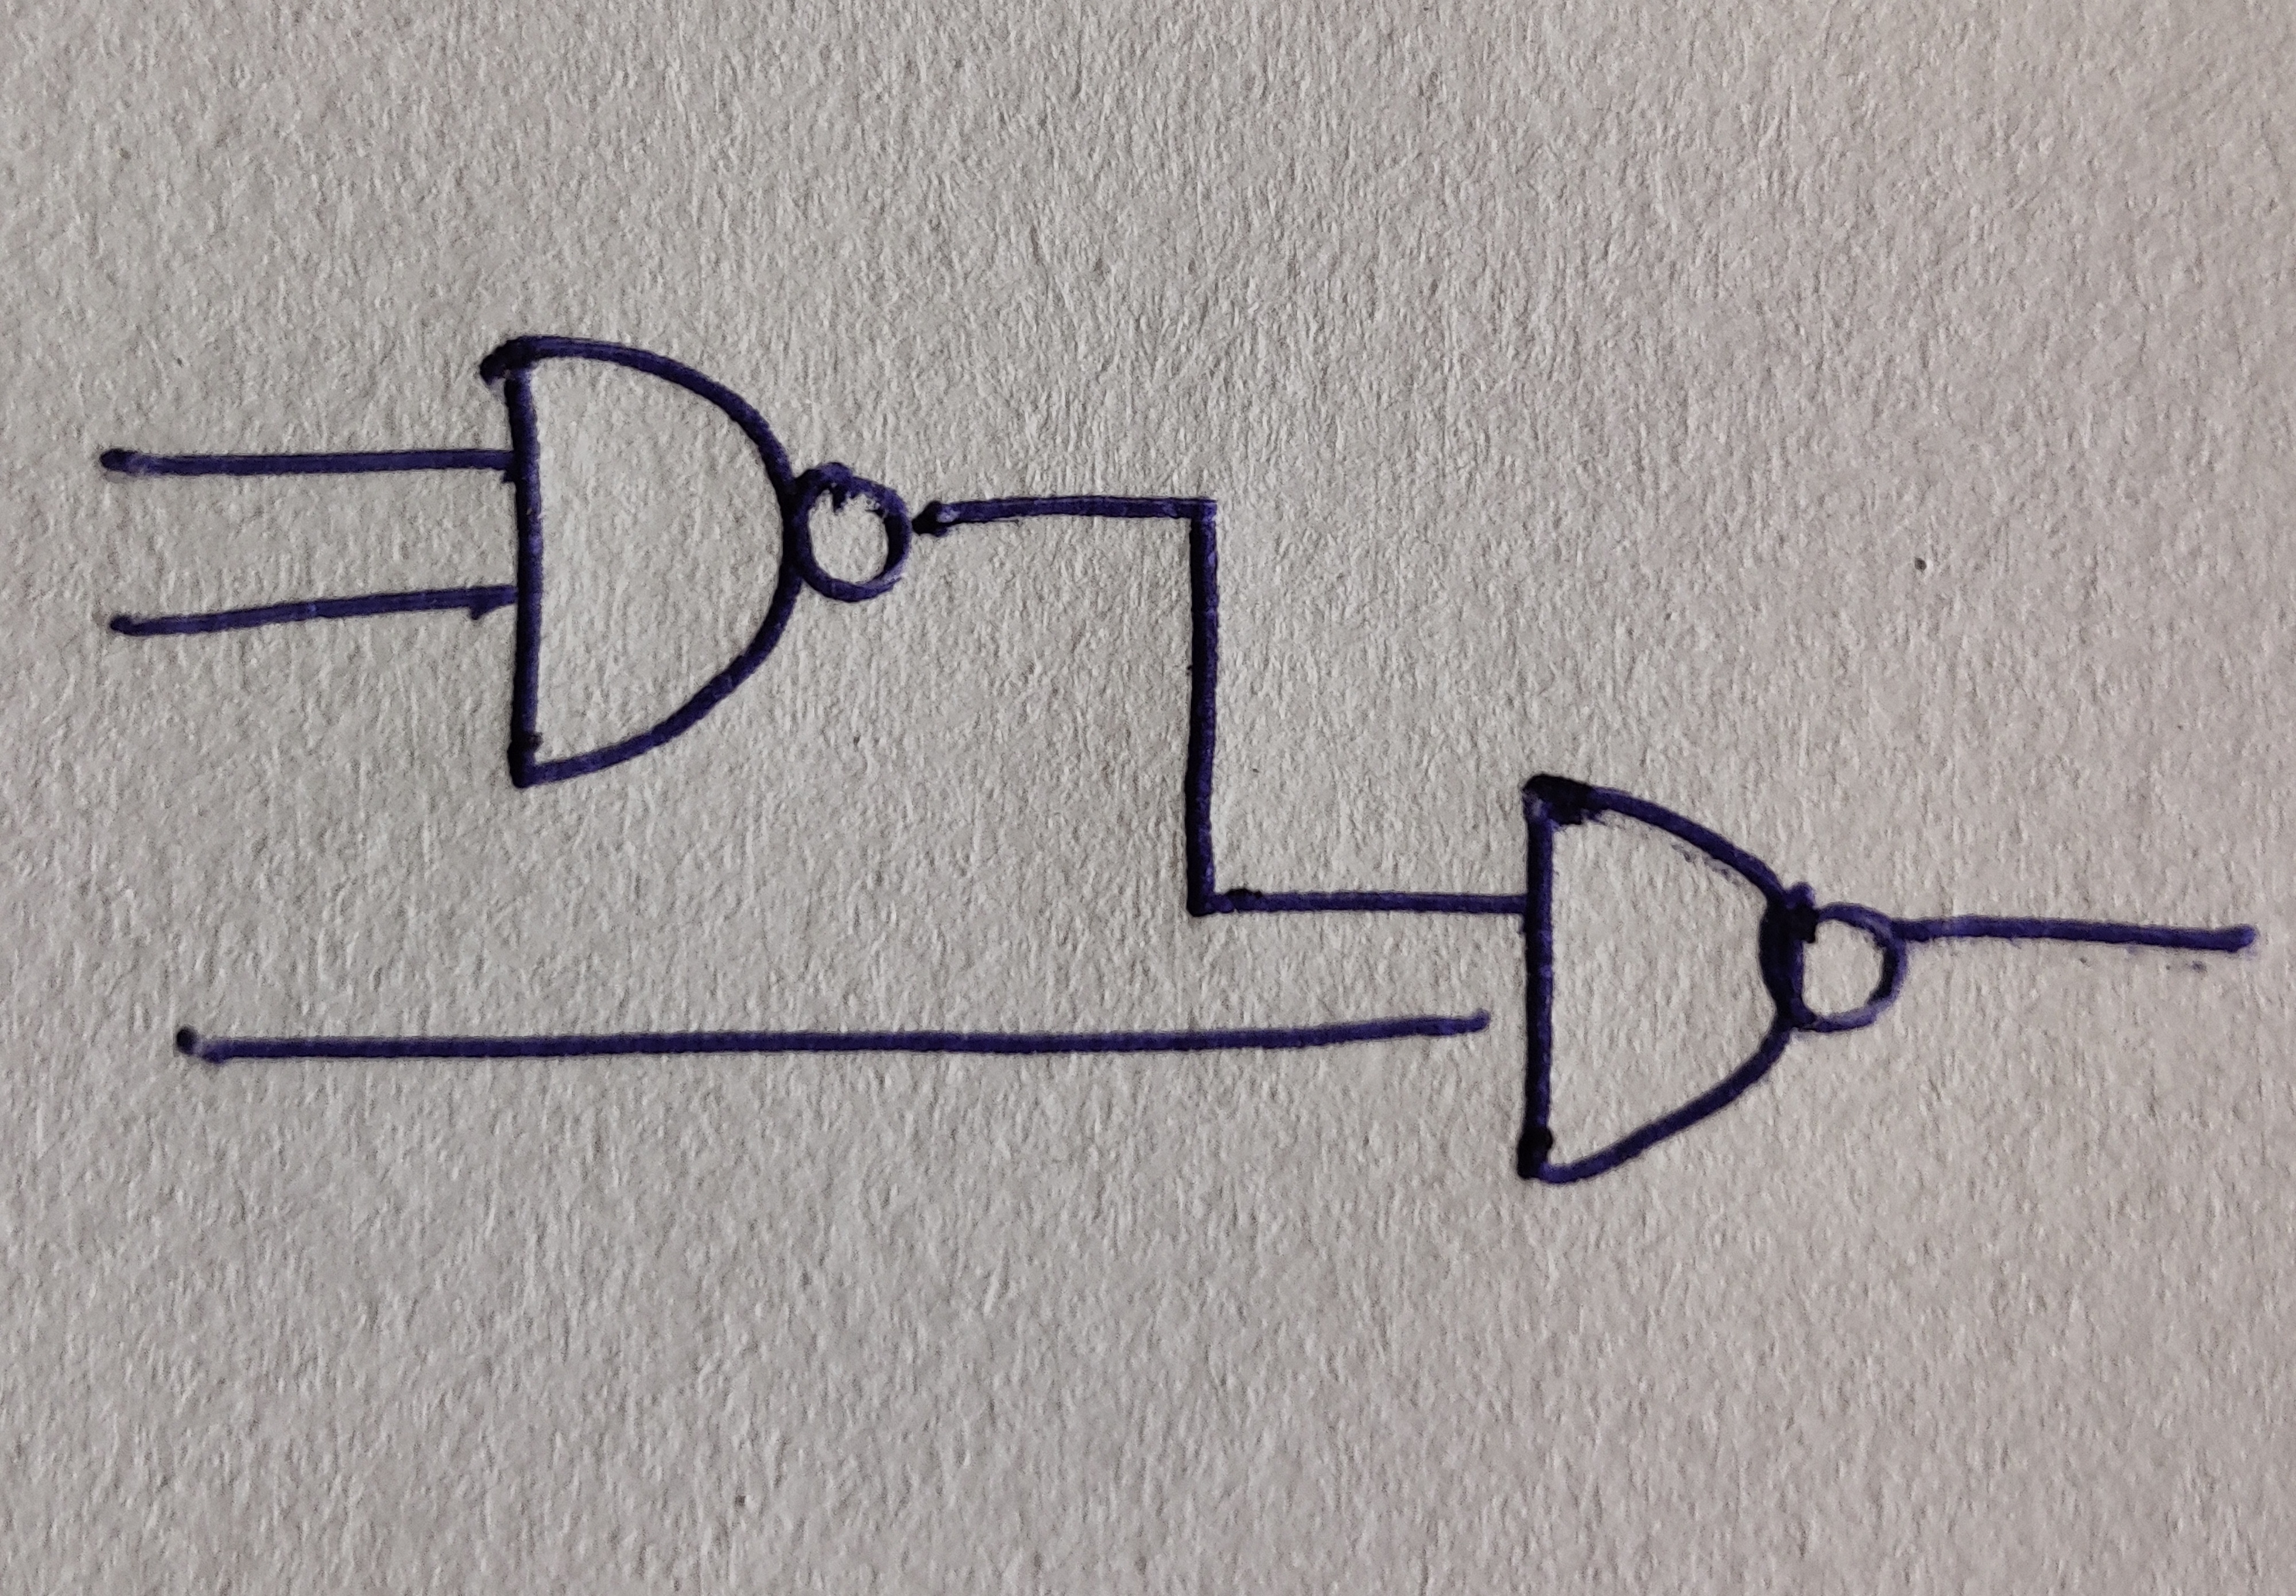and: (482, 335, 801, 788), (1518, 776, 1804, 1188)
not: (1760, 883, 1909, 1036), (797, 460, 912, 604)
